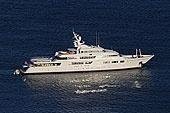yacht: (21, 30, 154, 78)
